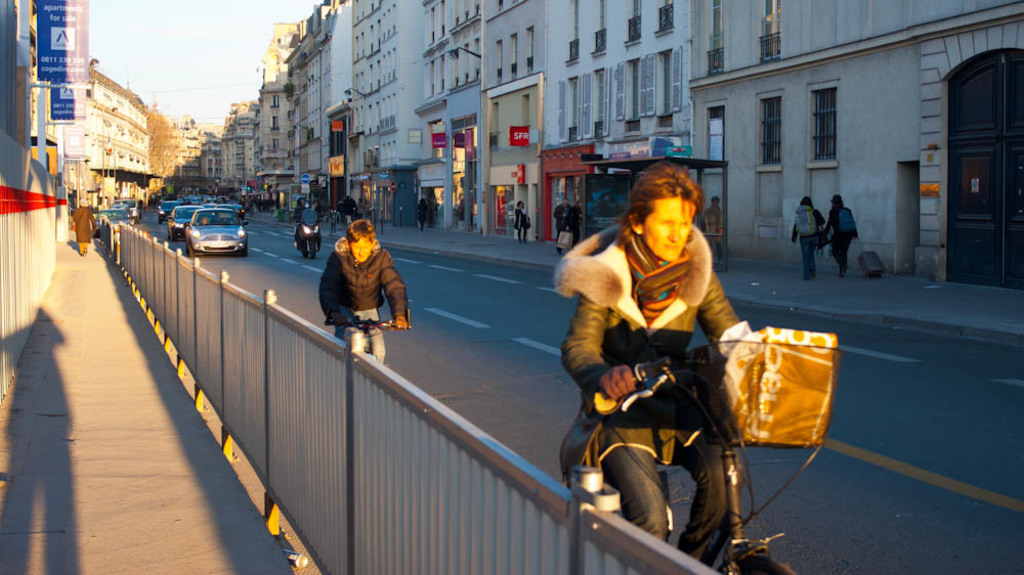Bike_toward: (556, 341, 839, 567), (319, 311, 427, 381)
